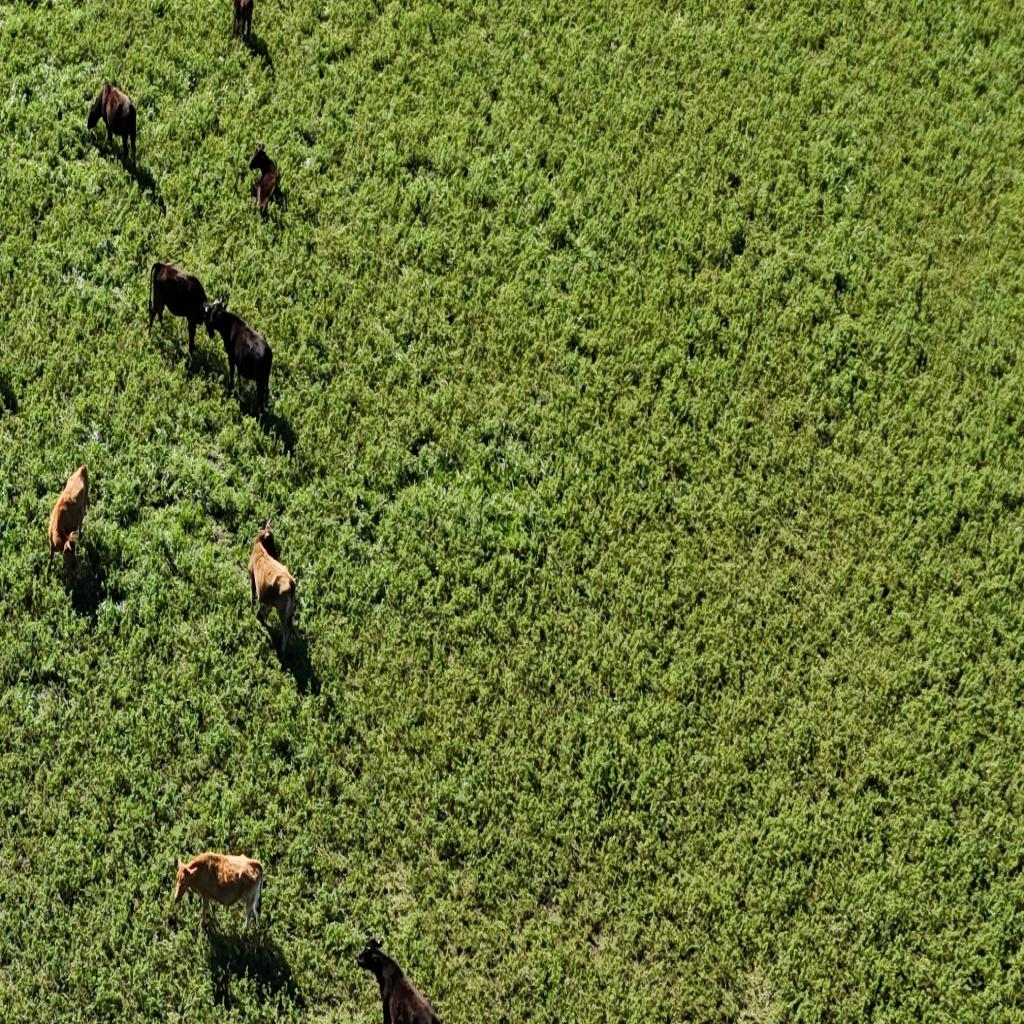cow: (170, 847, 292, 957), (355, 928, 458, 1024), (204, 299, 272, 415), (246, 517, 298, 660), (148, 259, 212, 360), (49, 456, 94, 579), (86, 78, 139, 169), (246, 140, 280, 217), (230, 0, 252, 41)
